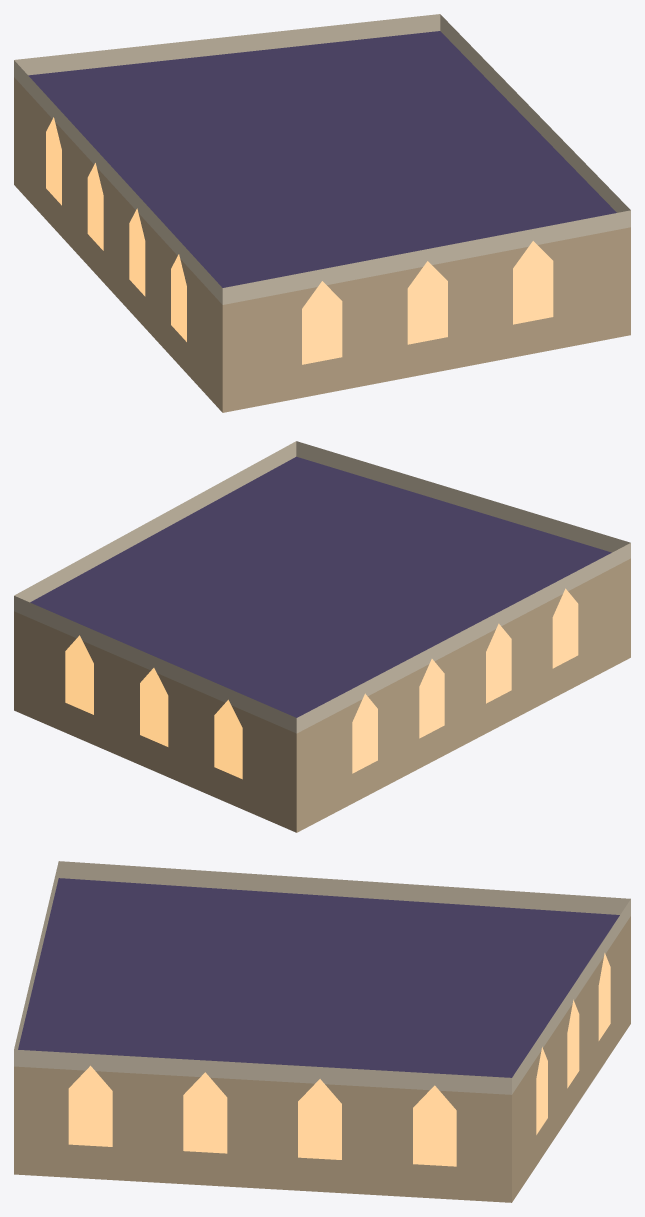
The picture shows the model from 3 angles, top to bottom: view 1: azimuth 30°, elevation 25°; view 2: azimuth 150°, elevation 25°; view 3: azimuth 270°, elevation 25°; orthographic projection. The views are drawn at different scales.
Visible parts, largest first — view 1: campus/b-104-0; view 2: campus/b-104-0; view 3: campus/b-104-0.
Boxes of the visible parts, x1,y1,x2,y2 form: campus/b-104-0: [14, 14, 630, 412]; campus/b-104-0: [14, 441, 630, 832]; campus/b-104-0: [14, 861, 630, 1202].
Size of the model in its own units: 15.07 by 4.05 by 18.12.
